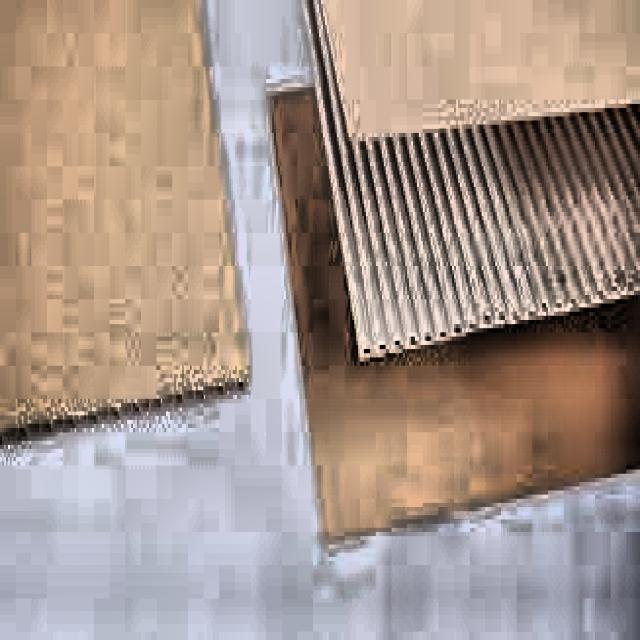cardboard: (264, 74, 638, 540), (299, 0, 638, 362), (0, 0, 251, 453)
